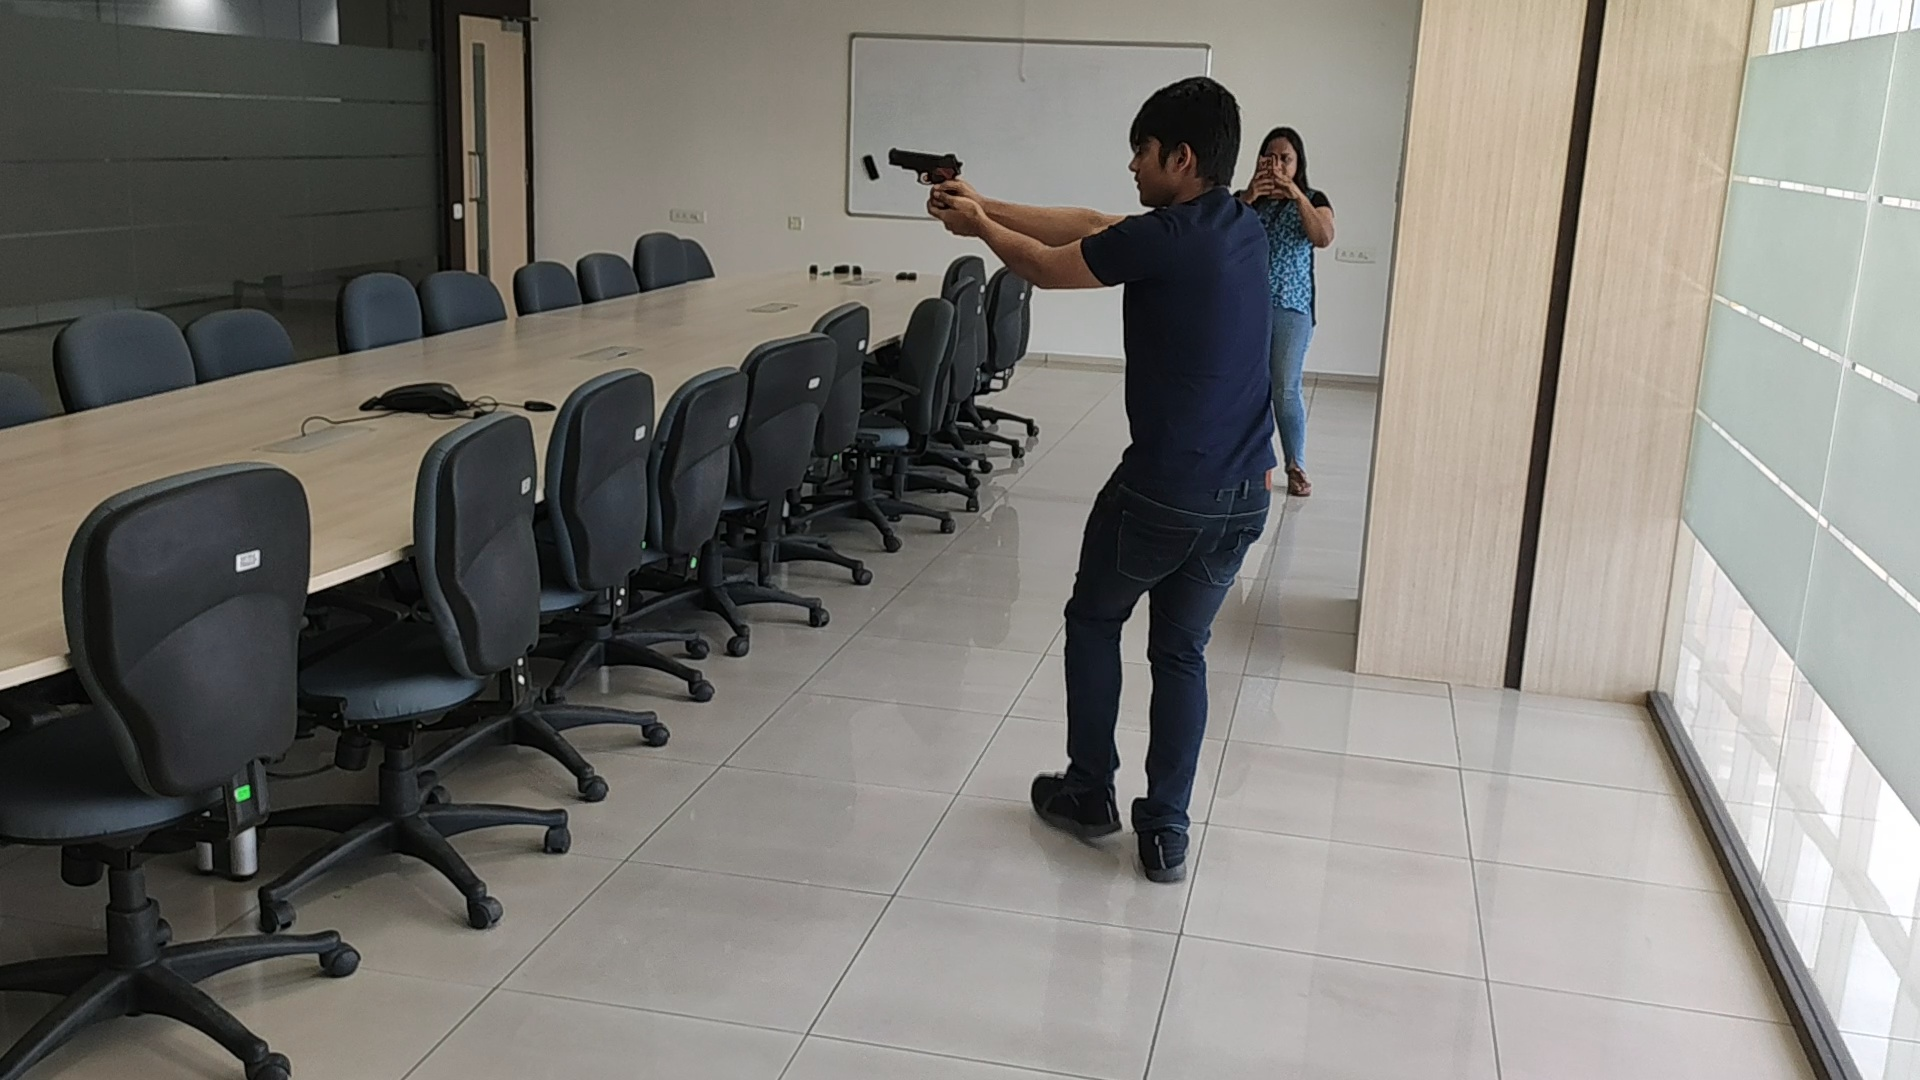gun: (886, 144, 963, 185)
